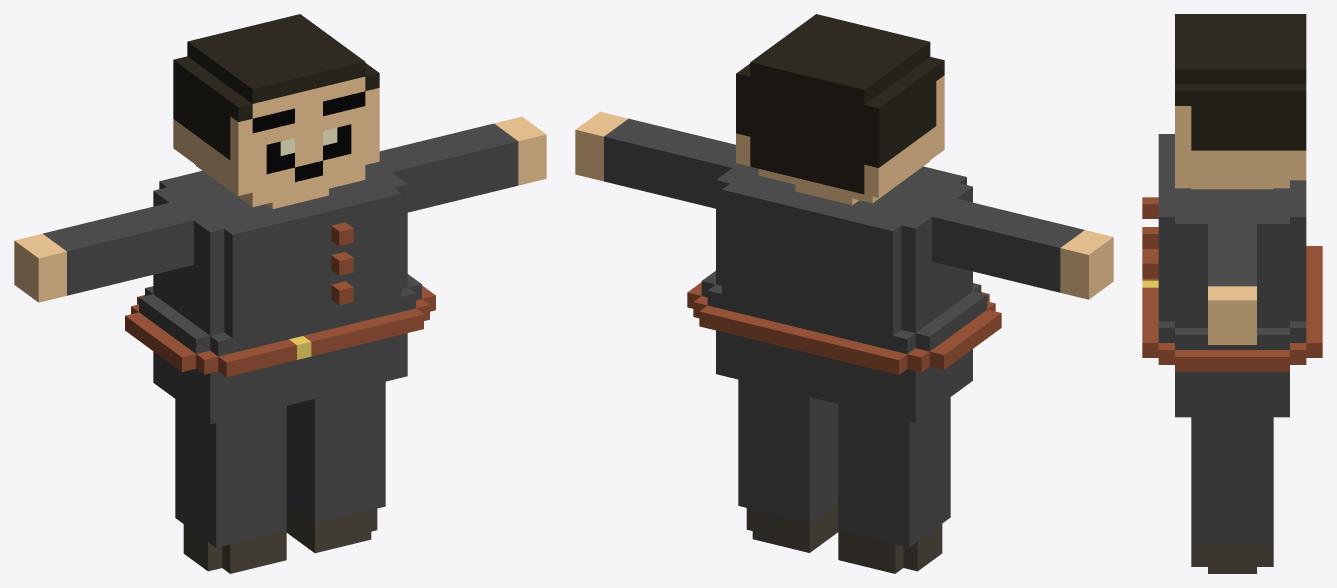
Rendered from saigotakamori.glb.
3 renders of one model, left to right at view 1: azimuth 30°, elevation 25°; view 2: azimuth 150°, elevation 25°; view 3: azimuth 270°, elevation 25°, orthographic.
Visible parts, largest first — view 1: Untitled; view 2: Untitled; view 3: Untitled.
Part boxes in pixels (bbox=[...]): Untitled: bbox=[14, 14, 546, 573]; Untitled: bbox=[575, 14, 1113, 573]; Untitled: bbox=[1142, 14, 1322, 573].
Bounding box in the file's own units: 0.72 × 0.66 × 0.22.
1 material, 1 textured.
